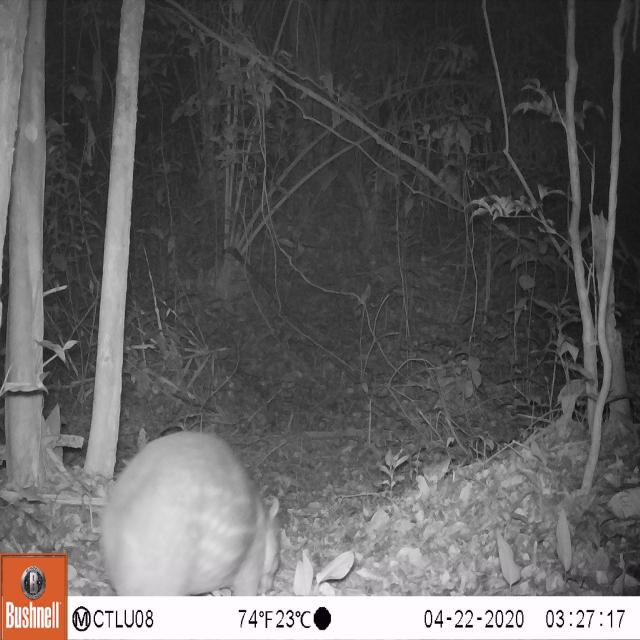Spotted Paca: (94, 413, 295, 595)
